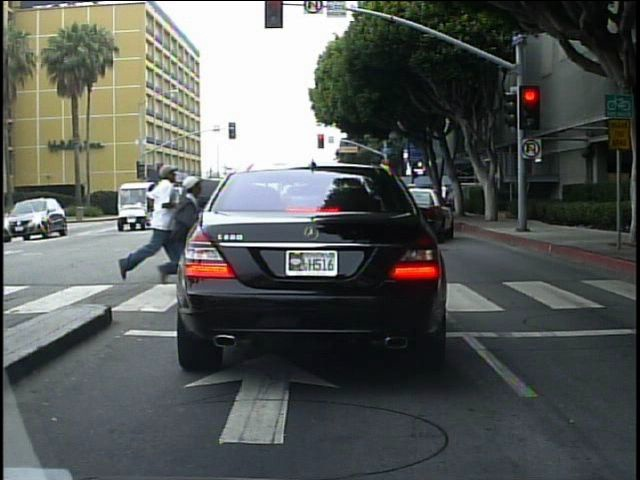person: (113, 163, 173, 296), (144, 170, 196, 269), (437, 179, 453, 214)
